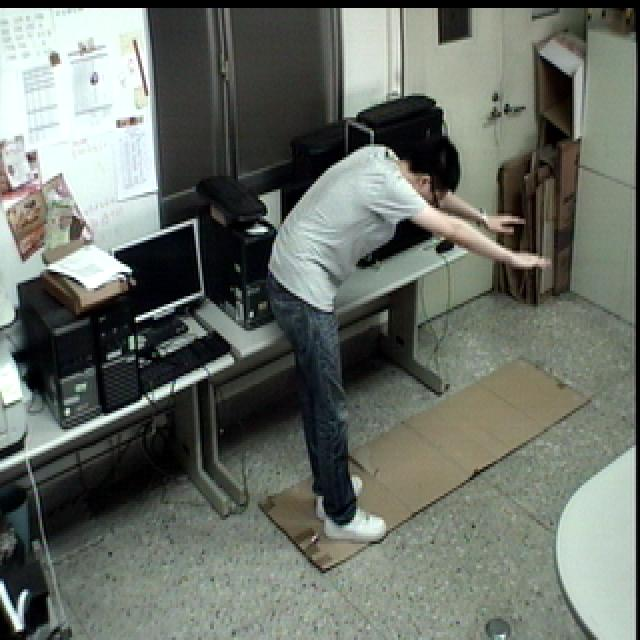bend: (266, 133, 554, 550)
